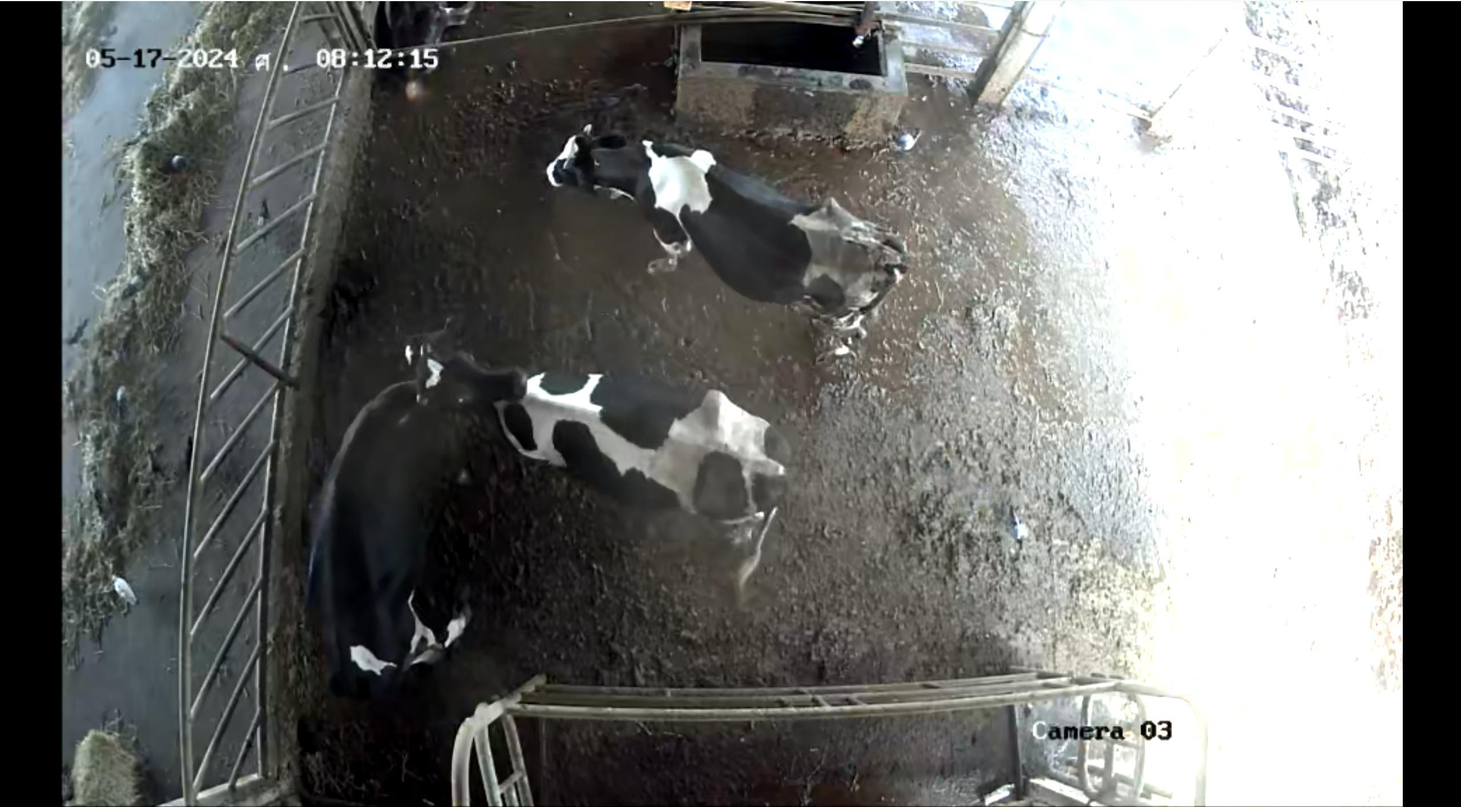propping: (389, 350, 558, 431)
stand: (393, 318, 822, 554), (545, 121, 936, 372)
